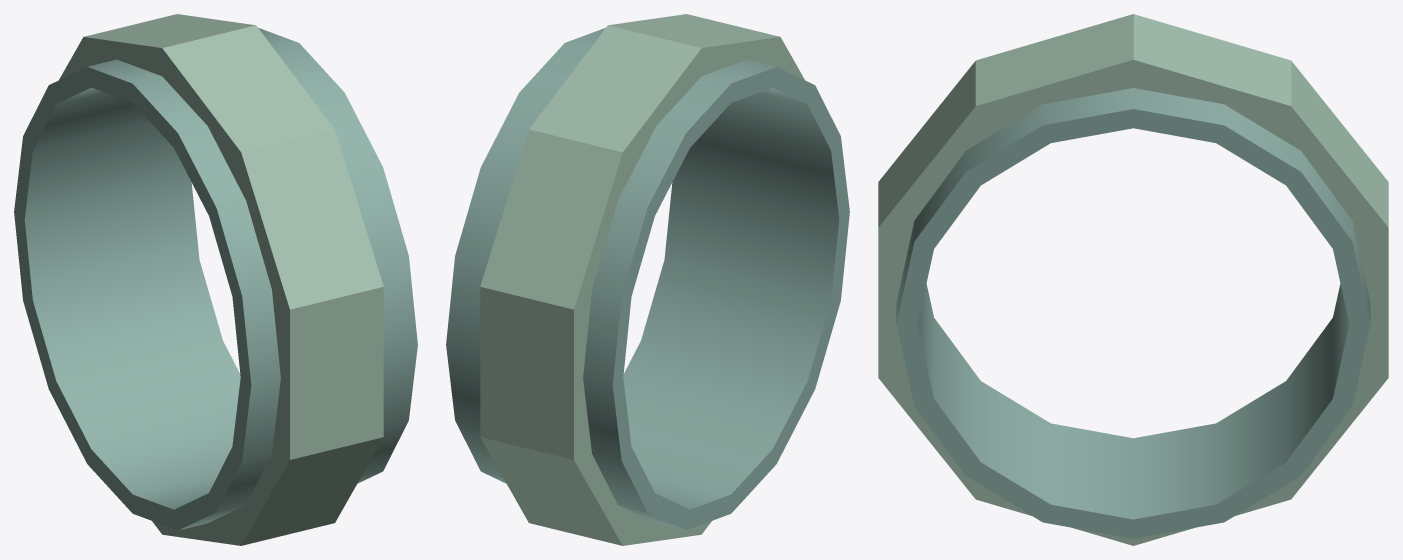
The model's file is PipeLarge_Connector_05_Hollow.fbx.
3 views of the same model, side by side, from view 1: azimuth 30°, elevation 25°; view 2: azimuth 150°, elevation 25°; view 3: azimuth 270°, elevation 25° (orthographic).
Parts seen in each view (by area): view 1: PipeLarge_Connector_05_Hollow.001; view 2: PipeLarge_Connector_05_Hollow.001; view 3: PipeLarge_Connector_05_Hollow.001.
Boxes of the visible parts, x1,y1,x2,y2 form: PipeLarge_Connector_05_Hollow.001: (14, 14, 417, 545); PipeLarge_Connector_05_Hollow.001: (446, 14, 849, 545); PipeLarge_Connector_05_Hollow.001: (878, 14, 1388, 545).
Size of the model in its own units: 0.0864 by 0.2411 by 0.2293.
